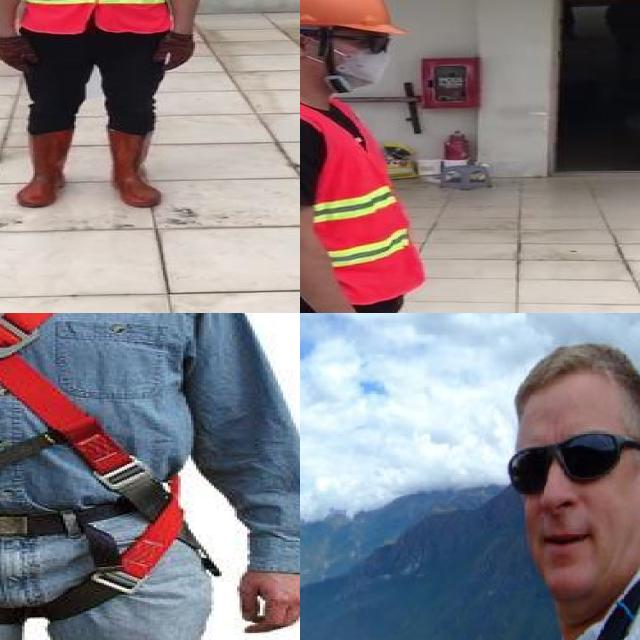Harness: (0, 313, 197, 628)
boots: (106, 127, 163, 208), (16, 131, 74, 209)
face_mask: (319, 28, 402, 88)
face_nomask: (511, 438, 627, 571)
glasses: (505, 430, 640, 498)
hand_glove: (0, 35, 36, 74), (156, 35, 195, 69)
head_helmet: (300, 0, 397, 36)
head_nohelmet: (508, 333, 640, 415)
person: (300, 0, 445, 313), (495, 333, 640, 640), (0, 0, 208, 207)
vest: (300, 91, 424, 308), (14, 0, 172, 33)
